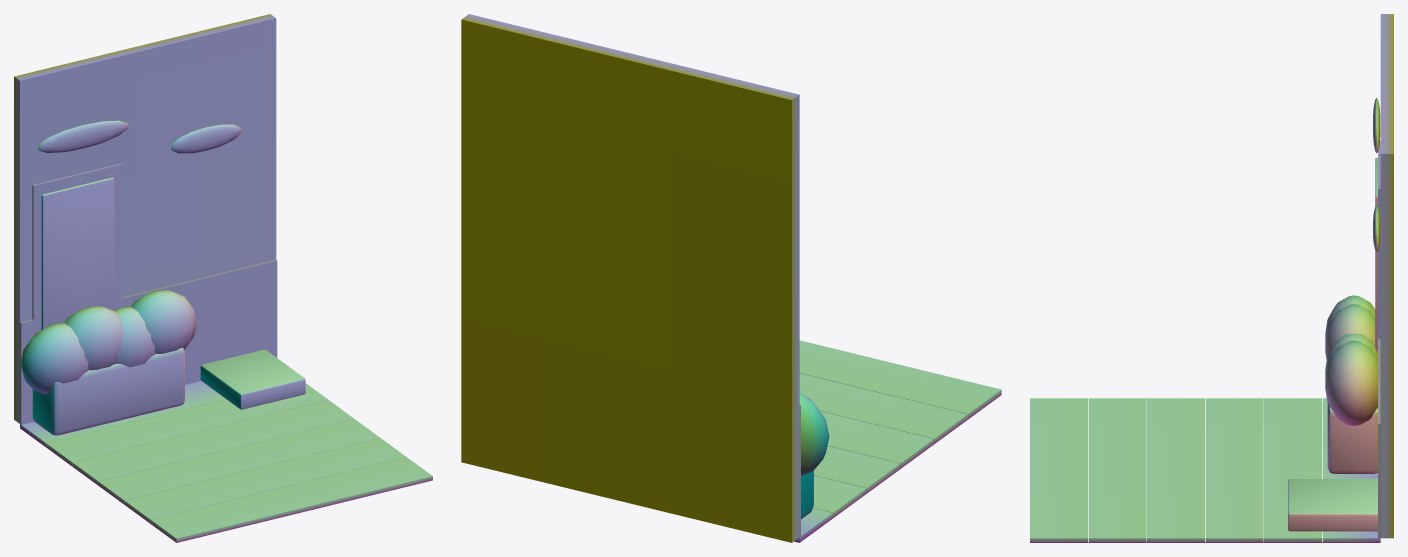
File: porch_arch.glb
The picture shows the model from 3 angles, left to right: view 1: azimuth 30°, elevation 25°; view 2: azimuth 150°, elevation 25°; view 3: azimuth 270°, elevation 25°; orthographic projection. The views are drawn at different scales.
Visible parts, largest first — view 1: porch_arch; view 2: porch_arch; view 3: porch_arch.
Part boxes in pixels (x1,y1,x2,y2): porch_arch: (14, 14, 432, 542); porch_arch: (461, 14, 1001, 542); porch_arch: (1030, 14, 1393, 542).
Size of the model in its own units: 2.59 by 3.24 by 2.75.
